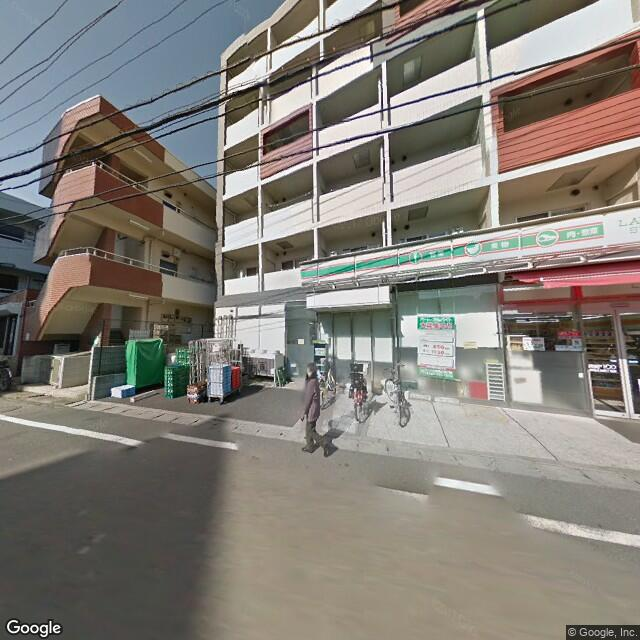lawson: (299, 203, 638, 288)
